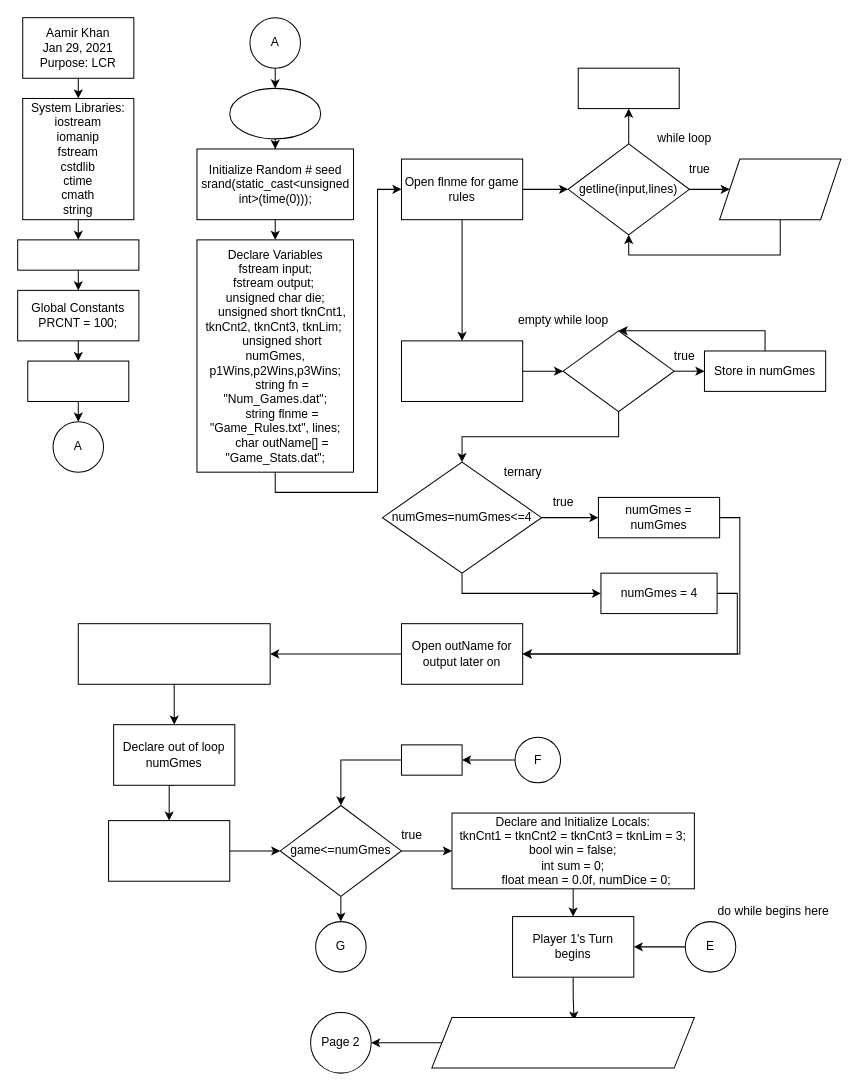
The diagram is 859 pixels wide and 1091 high, and some of its shapes have lost their labels. Each missing label, with the box of its shape:
close flnme: (577, 67, 679, 109)
Declare in for loop game = 1: (108, 820, 230, 881)
Function Prototypes None: (27, 360, 129, 401)
game++: (400, 744, 462, 775)
Initialize Variables p1Wins = p2Wins = p3Wins = 0; int beg = time(0);: (77, 623, 270, 684)
input>>numGmes: (562, 330, 674, 412)
main: (229, 87, 321, 139)
Open fn for # of games: (400, 340, 523, 401)
Output lines: (719, 158, 841, 220)
Tell user to press Enter to roll their dice cin.get();: (431, 1017, 694, 1068)
User Libraries None: (17, 239, 139, 270)
